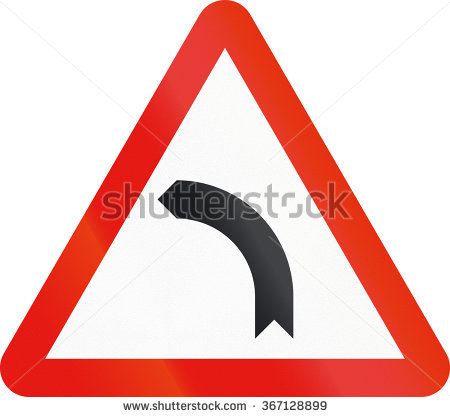Bend_to_left: (3, 2, 450, 398)
